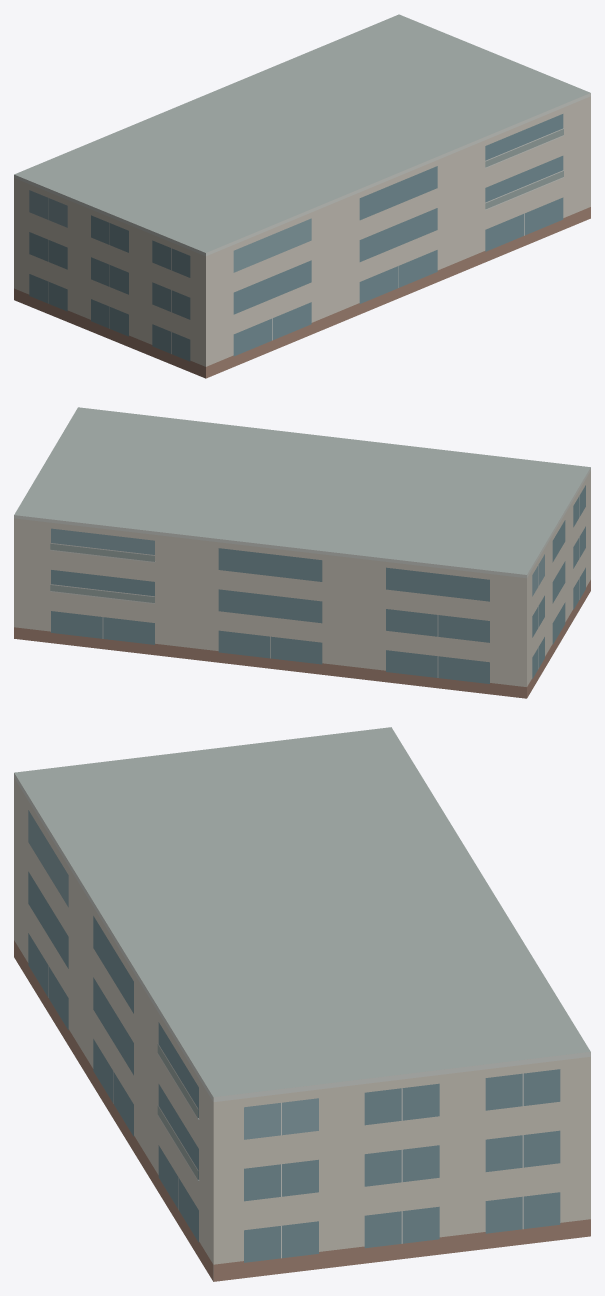
The model's file is survey-upis-32693237.glb.
The picture shows the model from 3 angles, top to bottom: view 1: azimuth 30°, elevation 25°; view 2: azimuth 150°, elevation 25°; view 3: azimuth 270°, elevation 25°; orthographic projection. The views are drawn at different scales.
Parts seen in each view (by area): view 1: survey-upis-32693237.tmp; view 2: survey-upis-32693237.tmp; view 3: survey-upis-32693237.tmp.
Boxes of the visible parts, bbox=[...] form: survey-upis-32693237.tmp: bbox=[14, 14, 590, 378]; survey-upis-32693237.tmp: bbox=[14, 407, 590, 698]; survey-upis-32693237.tmp: bbox=[14, 727, 590, 1281].
Bounding box in the file's own units: 39.38 × 9.15 × 25.93.
